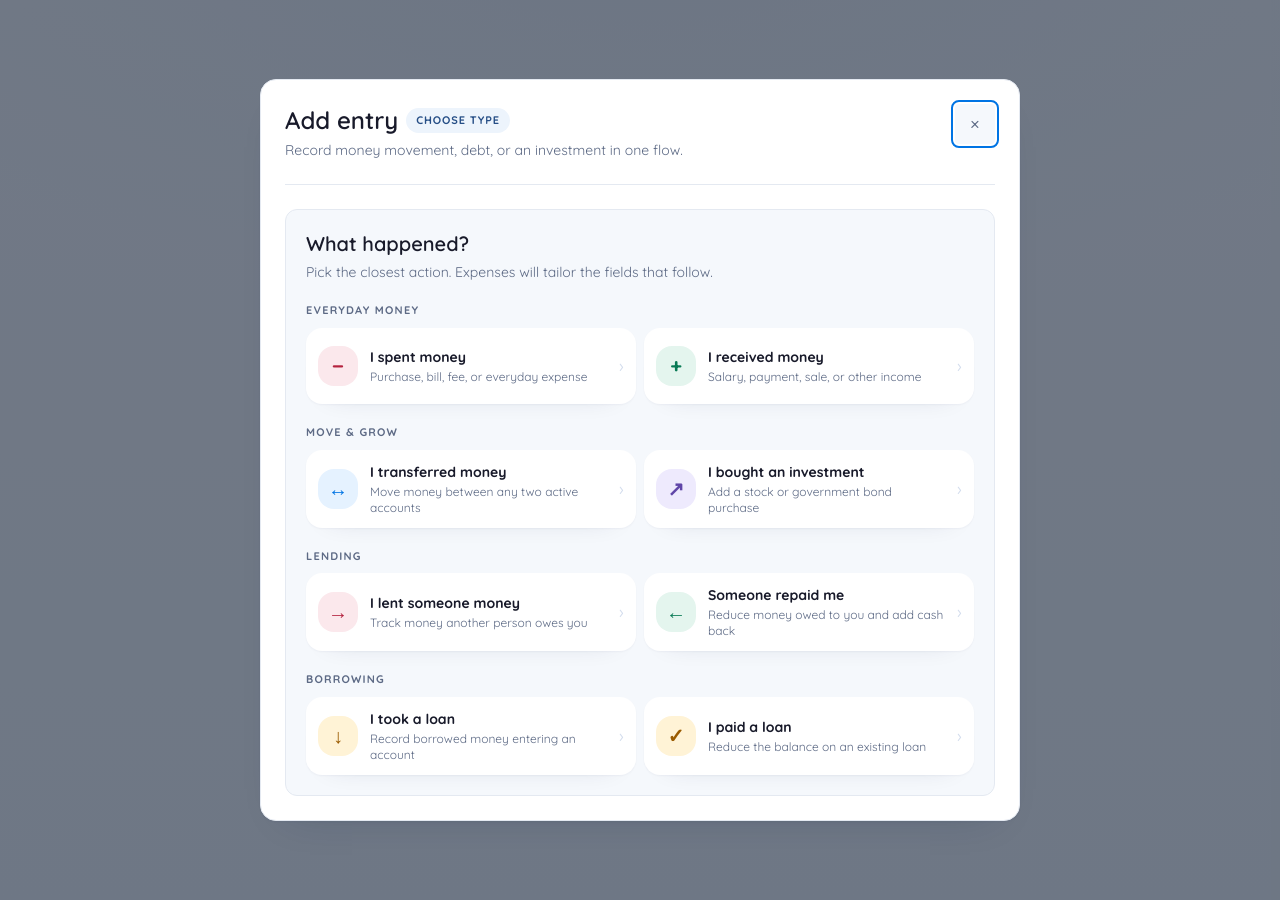
Test: AddEntryDialog › creates stocks and government bonds without leaving quick add
Click the button "I bought an investment": (809, 488) left=644, top=450, right=974, bottom=528
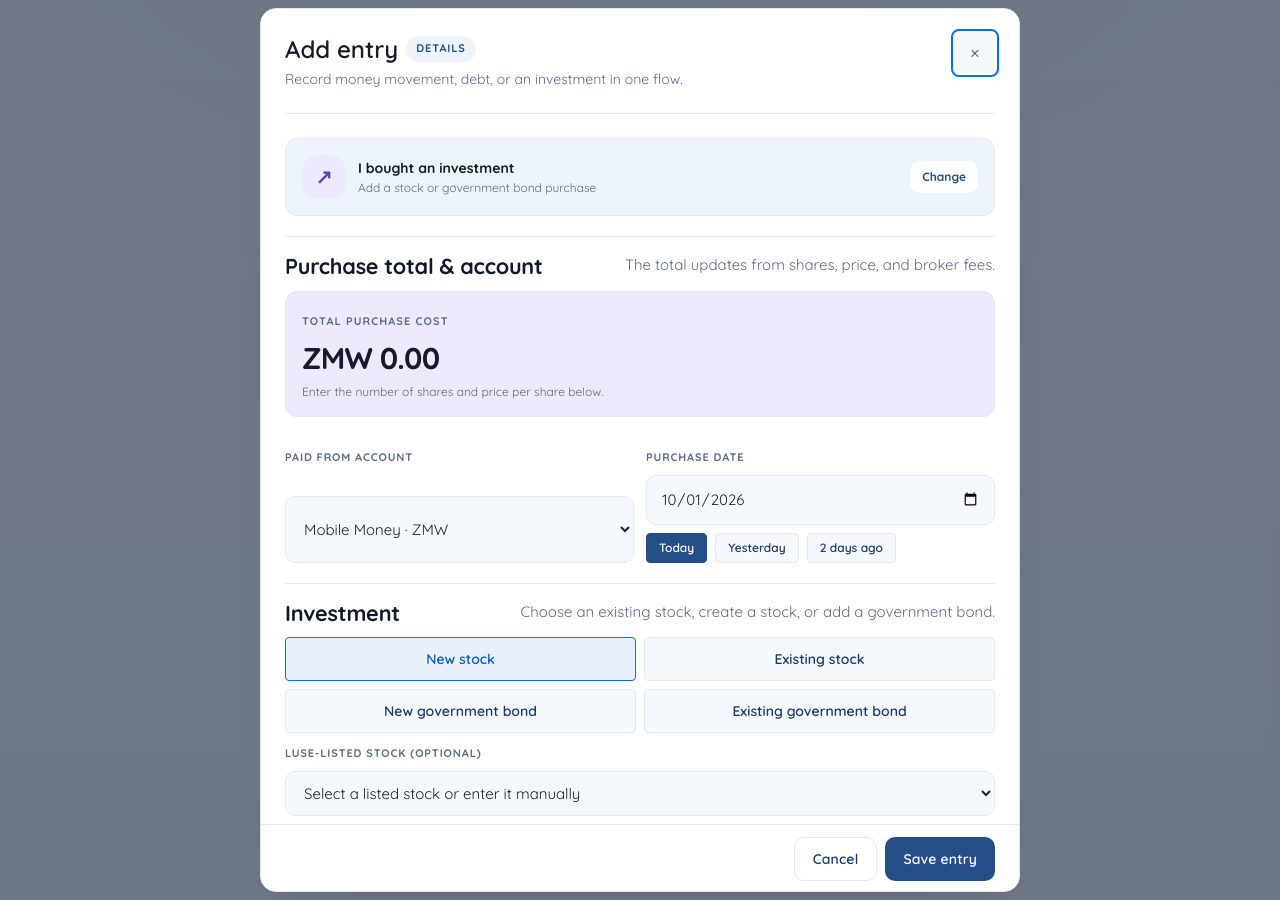
Check: the heading "Investment" is shown, box left=285, top=600, right=400, bottom=625
Check: the button "New stock" is shown, box left=285, top=637, right=636, bottom=681
Click the button "New government bond": (460, 711) left=285, top=689, right=636, bottom=733
(page scrolled)
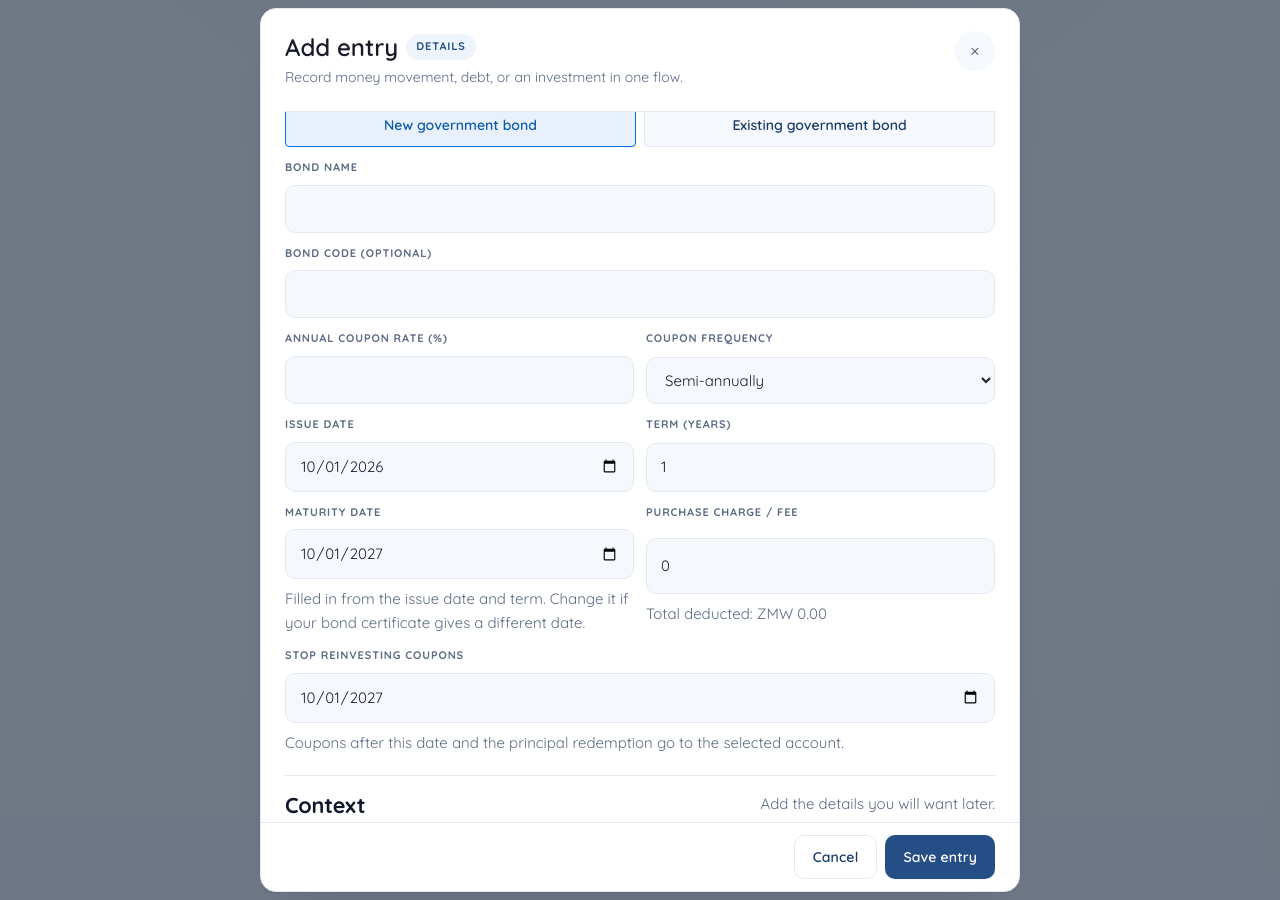
Check: the field labelled "Bond name" is shown, box left=285, top=185, right=995, bottom=233
Check: the number field labelled "Annual coupon rate (%)" is shown, box left=285, top=356, right=634, bottom=404
Check: the number field labelled "Purchase charge / fee" is shown, box left=646, top=538, right=995, bottom=594
In the date field labelled "Issue date": (460, 467) left=285, top=442, right=634, bottom=492, type "2026-01-01"
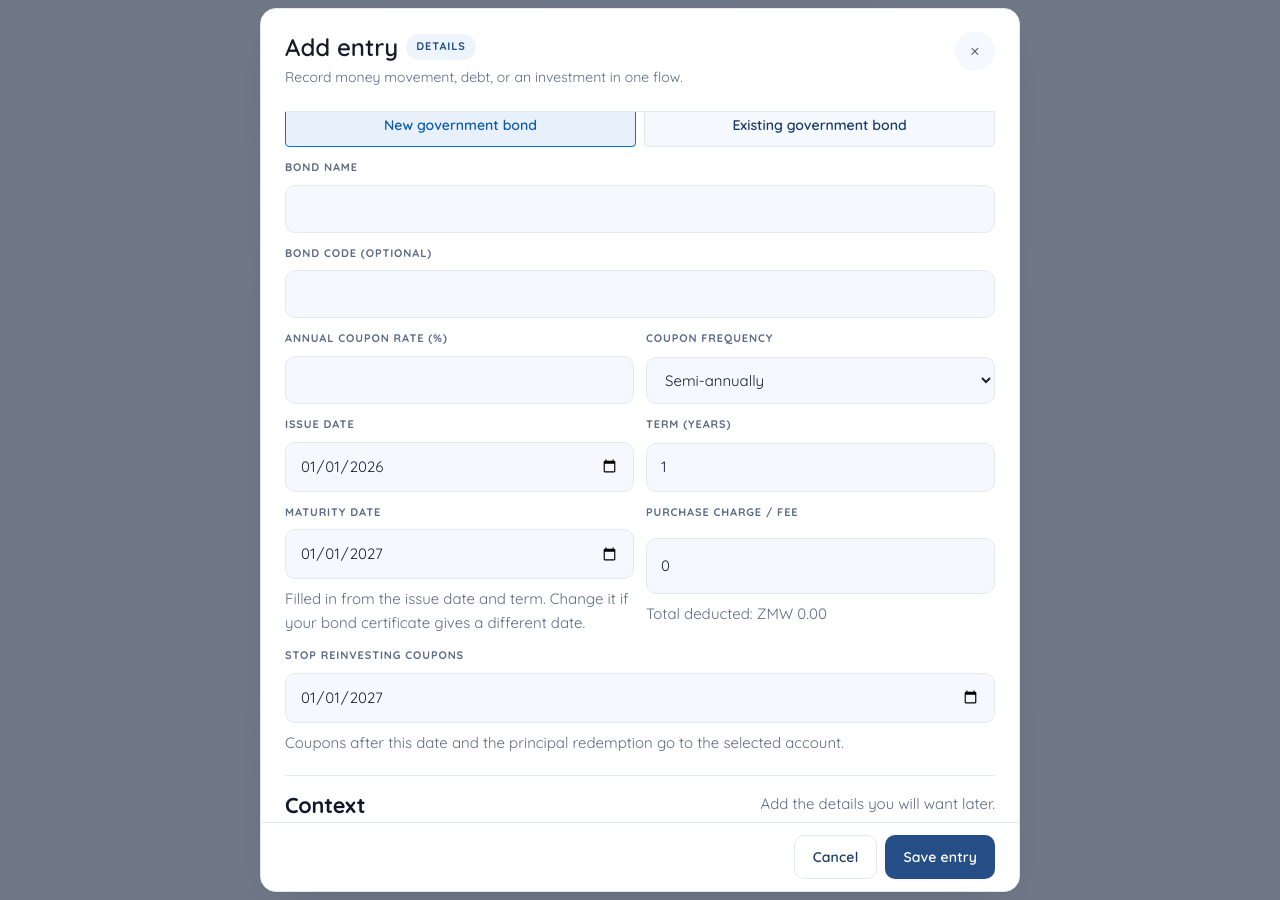
Replace the text in the number field labelled "Term (years)" with "3": (820, 467) left=646, top=443, right=995, bottom=492
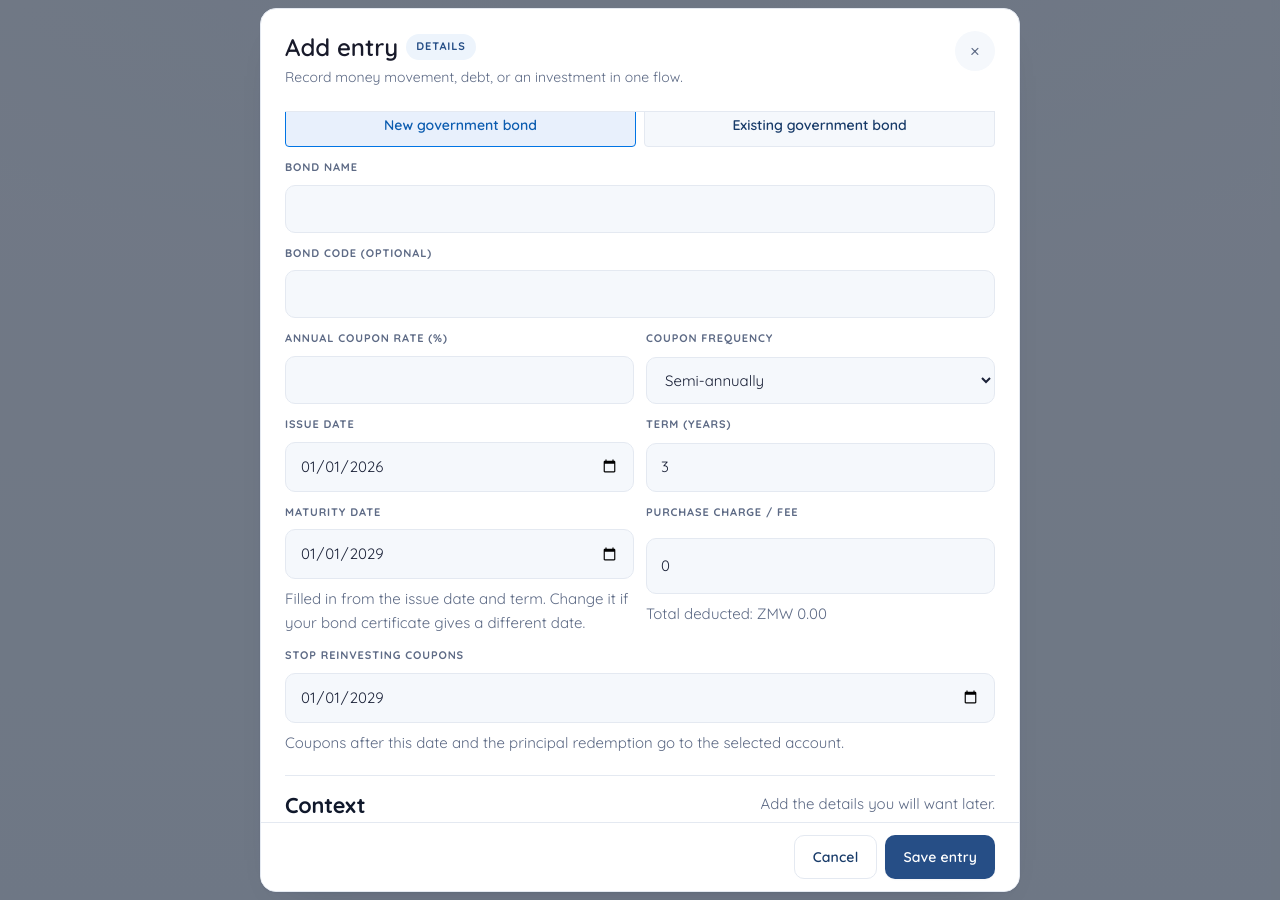
Check: the date field labelled "Maturity date" holds "2029-01-01", box left=285, top=529, right=634, bottom=579
